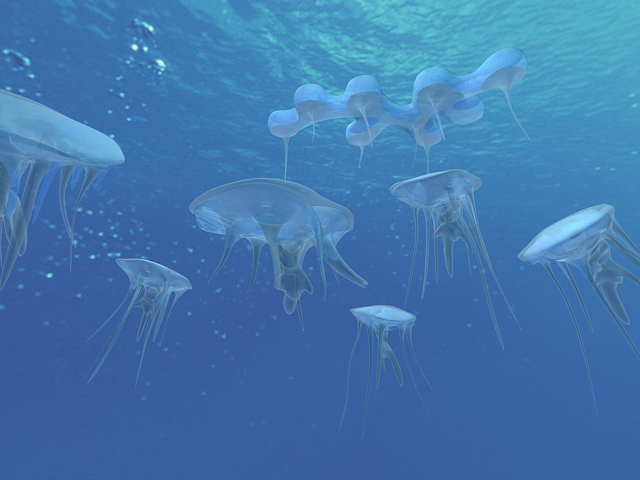jellyfish: (182, 174, 370, 308), (388, 167, 519, 343), (511, 203, 640, 376), (73, 252, 199, 393), (338, 301, 435, 434)
